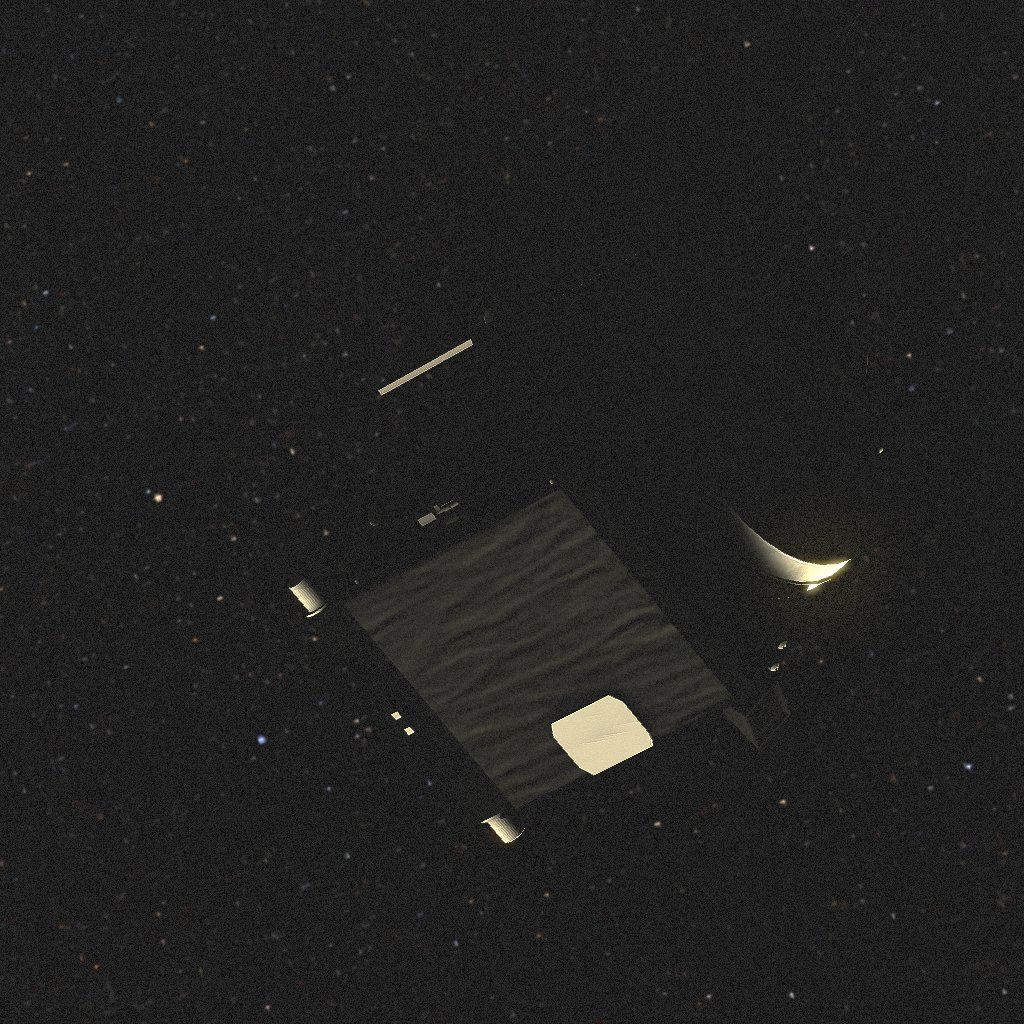proba_3_csc: (289, 0, 895, 843)
